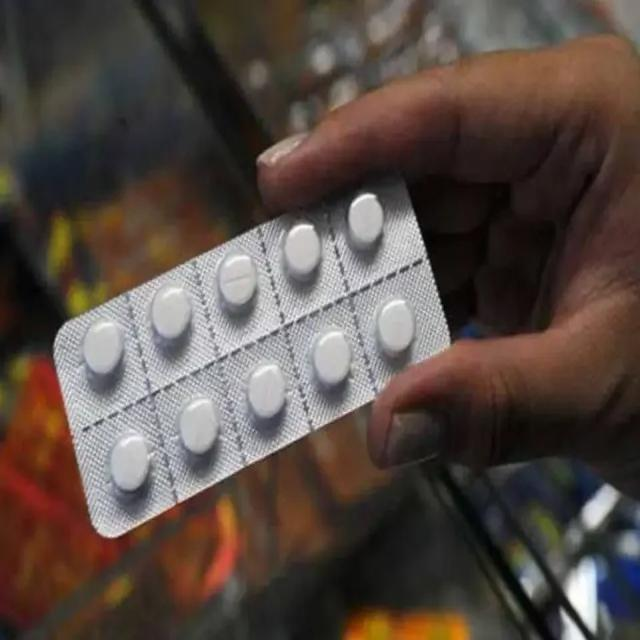Pill: (105, 429, 152, 504), (177, 387, 221, 467), (280, 213, 325, 290), (214, 249, 261, 320), (246, 356, 288, 434), (82, 317, 127, 389), (310, 322, 352, 398), (346, 184, 386, 260), (150, 283, 195, 350), (375, 292, 417, 362)
